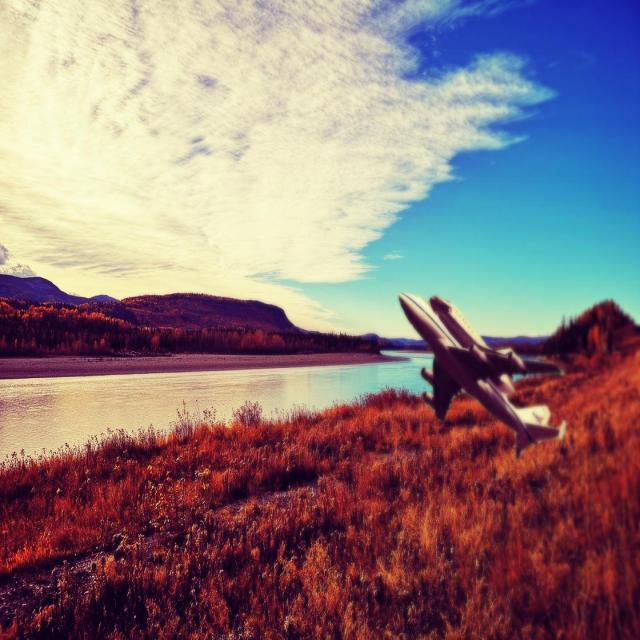airplane: (396, 291, 566, 459)
